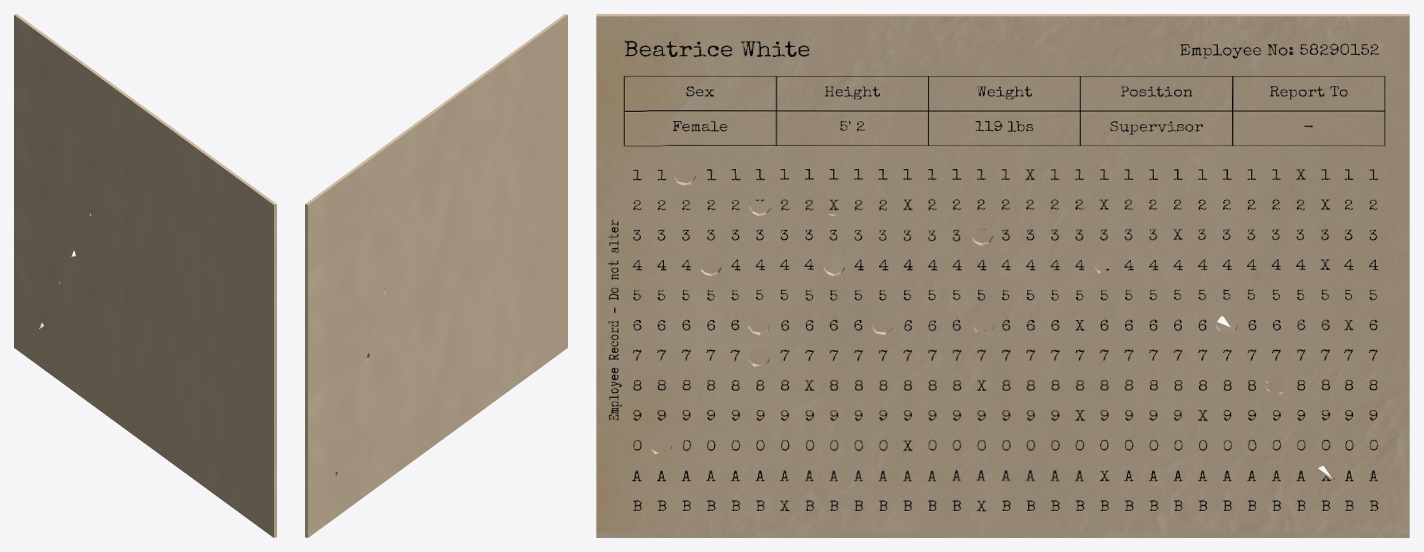
Rendered from employeeCard12Aadi.fbx.
The picture shows the model from 3 angles, left to right: view 1: azimuth 30°, elevation 25°; view 2: azimuth 150°, elevation 25°; view 3: azimuth 270°, elevation 25°; orthographic projection. The views are drawn at different scales.
Parts seen in each view (by area): view 1: Employee 12 Card Puzzle Punched; view 2: Employee 12 Card Puzzle Punched; view 3: Employee 12 Card Puzzle Punched.
Part boxes in pixels (x1,y1,x2,y2): Employee 12 Card Puzzle Punched: (14,14,276,537); Employee 12 Card Puzzle Punched: (305,14,567,537); Employee 12 Card Puzzle Punched: (596,14,1409,537).
Bounding box in the file's own units: 0.9779 × 100 × 141.
Materials: 1 (1 with a texture image).
